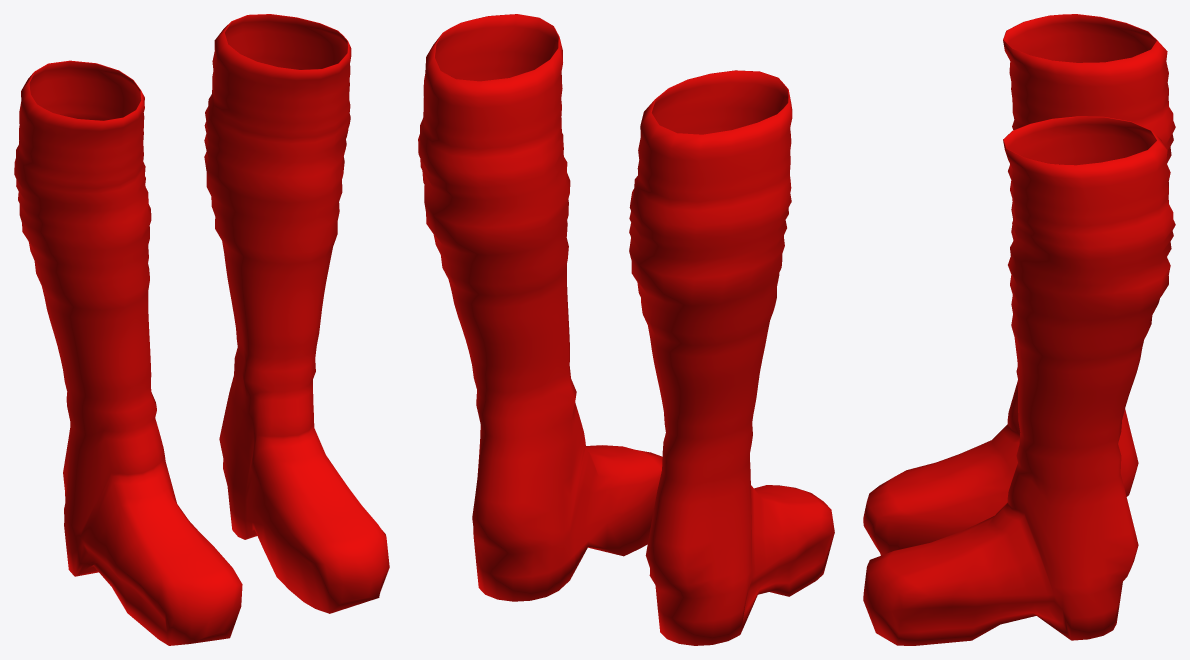
The model's file is g2Shoes.fbx.
The picture shows the model from 3 angles, left to right: view 1: azimuth 30°, elevation 25°; view 2: azimuth 150°, elevation 25°; view 3: azimuth 270°, elevation 25°; orthographic projection. The views are drawn at different scales.
Parts seen in each view (by area): view 1: Supergirl_boot; view 2: Supergirl_boot; view 3: Supergirl_boot.
Part boxes in pixels (x1,y1,x2,y2): Supergirl_boot: (14, 14, 389, 645); Supergirl_boot: (418, 14, 834, 645); Supergirl_boot: (863, 14, 1175, 645).
Bounding box in the file's own units: 25.37 × 37.09 × 20.81.
